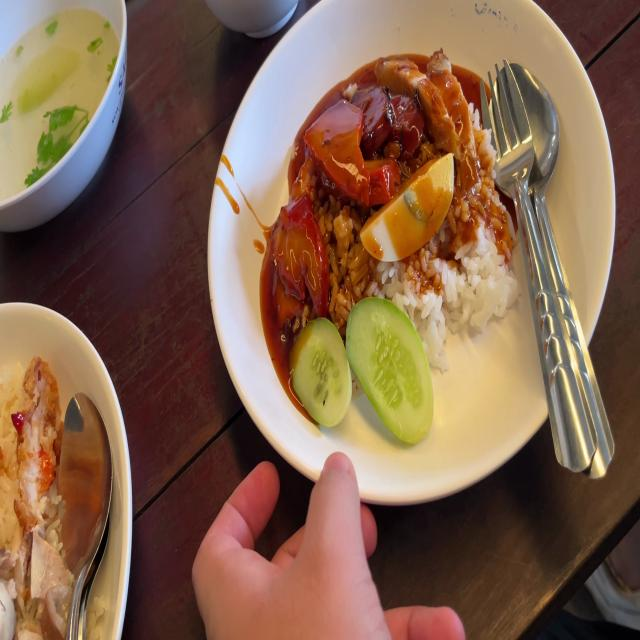01boiled_egg: (360, 152, 456, 266)
01chainese_sausage: (361, 82, 420, 156)
01crispy_pork: (378, 50, 478, 172)
01red_pork: (305, 95, 369, 200), (277, 192, 329, 314)
01red_pork_and_crispy_pork: (276, 46, 526, 439)
boiled_chicken: (3, 529, 73, 640)
chicken_rice: (0, 352, 86, 640)
cucumber: (346, 298, 437, 447), (287, 316, 350, 426)
fried_chicken: (14, 345, 62, 528)
